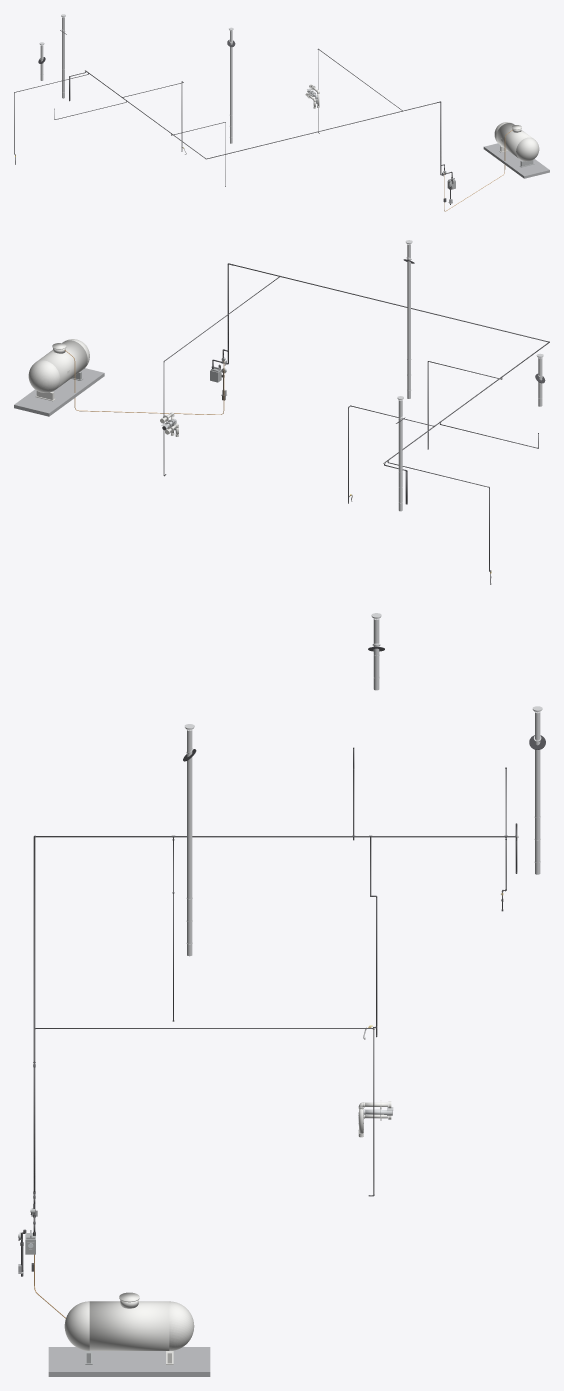
File: pipes_gas.glb
The picture shows the model from 3 angles, top to bottom: view 1: azimuth 30°, elevation 25°; view 2: azimuth 150°, elevation 25°; view 3: azimuth 270°, elevation 25°; orthographic projection. The views are drawn at different scales.
Visible parts, largest first — view 1: fix_propane_tank, pipe_gas_main, vent_gas_wh_flue_closet, vent_gas_furnace_flue; view 2: fix_propane_tank, pipe_gas_main, vent_gas_wh_flue_closet, vent_gas_furnace_flue; view 3: fix_propane_tank, pipe_gas_main, vent_gas_wh_flue_closet, vent_gas_furnace_flue.
Part boxes in pixels (x1,y1,x2,y2): fix_propane_tank: (483, 122, 549, 178); pipe_gas_main: (86, 71, 437, 159); vent_gas_wh_flue_closet: (227, 27, 235, 143); vent_gas_furnace_flue: (60, 14, 66, 98); fix_propane_tank: (14, 339, 104, 416); pipe_gas_main: (233, 264, 549, 462); vent_gas_wh_flue_closet: (403, 240, 414, 398); vent_gas_furnace_flue: (396, 396, 405, 511); fix_propane_tank: (48, 1292, 210, 1376); pipe_gas_main: (33, 835, 514, 1061); vent_gas_wh_flue_closet: (183, 724, 196, 956); vent_gas_furnace_flue: (529, 706, 545, 874).
Bounding box in the file's own units: 18.35 × 8.09 × 9.78.
